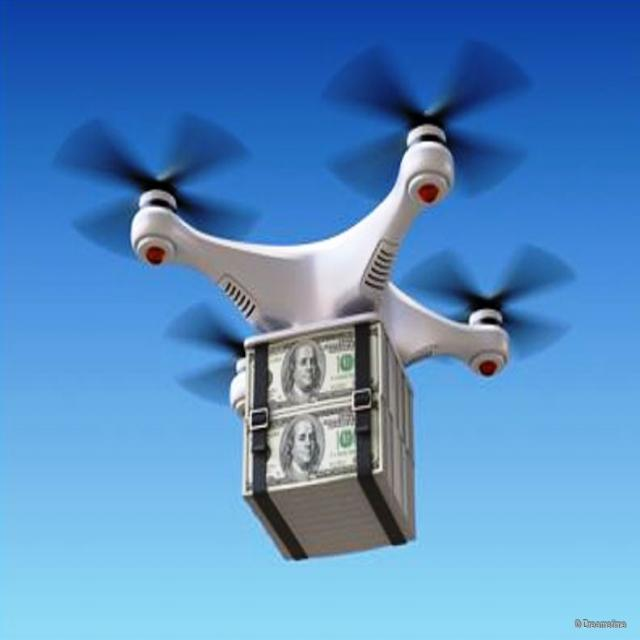drones: (50, 30, 587, 571)
